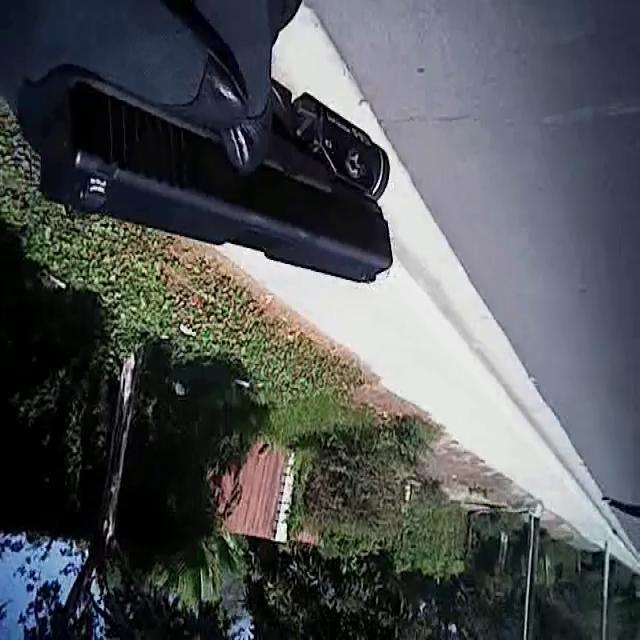gun: (0, 0, 437, 323)
